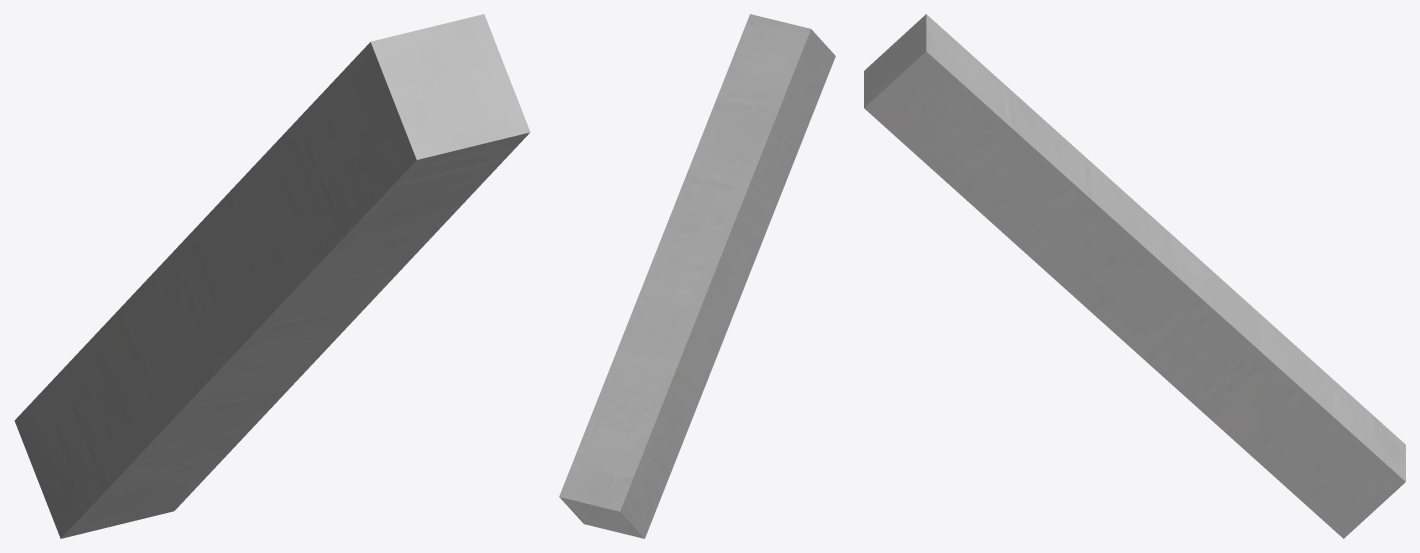
File: main_frame__front_leg_1.glb
The picture shows the model from 3 angles, left to right: view 1: azimuth 30°, elevation 25°; view 2: azimuth 150°, elevation 25°; view 3: azimuth 270°, elevation 25°; orthographic projection. The views are drawn at different scales.
Visible parts, largest first — view 1: geometry_0; view 2: geometry_0; view 3: geometry_0.
Boxes of the visible parts, x1,y1,x2,y2 form: geometry_0: (14, 14, 530, 538); geometry_0: (559, 14, 835, 538); geometry_0: (864, 14, 1405, 538).
Bounding box in the file's own units: 0.055 × 0.3347 × 0.3371.
Materials: 1 (1 with a texture image).
